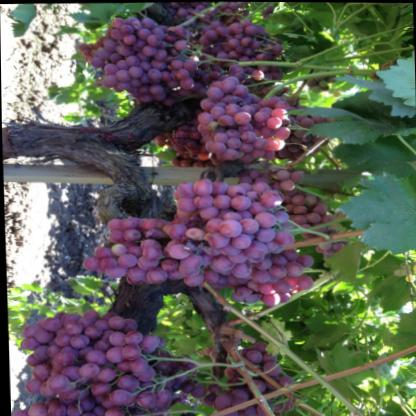grape: (77, 175, 325, 306), (8, 298, 179, 416), (159, 74, 318, 166), (67, 4, 204, 97)
